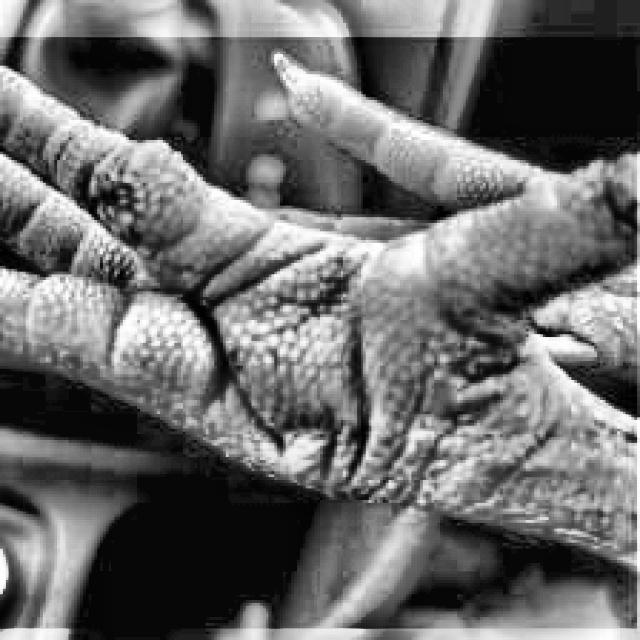Bumble foot: (0, 37, 637, 600)
